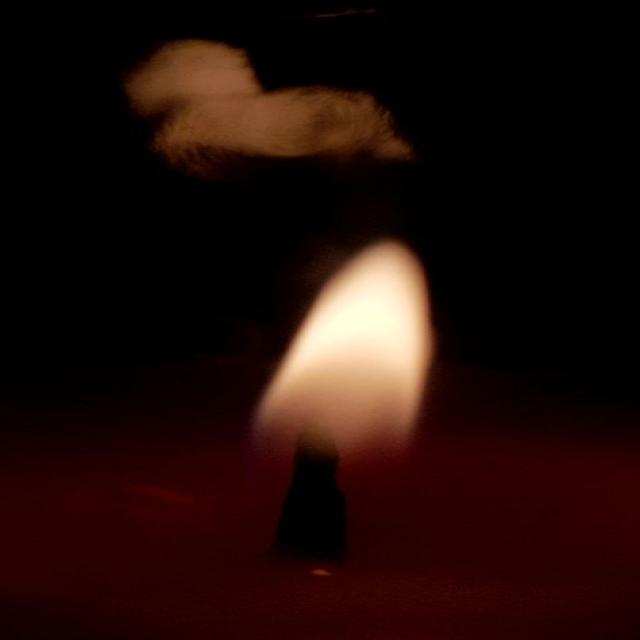Fire: (246, 209, 462, 492)
